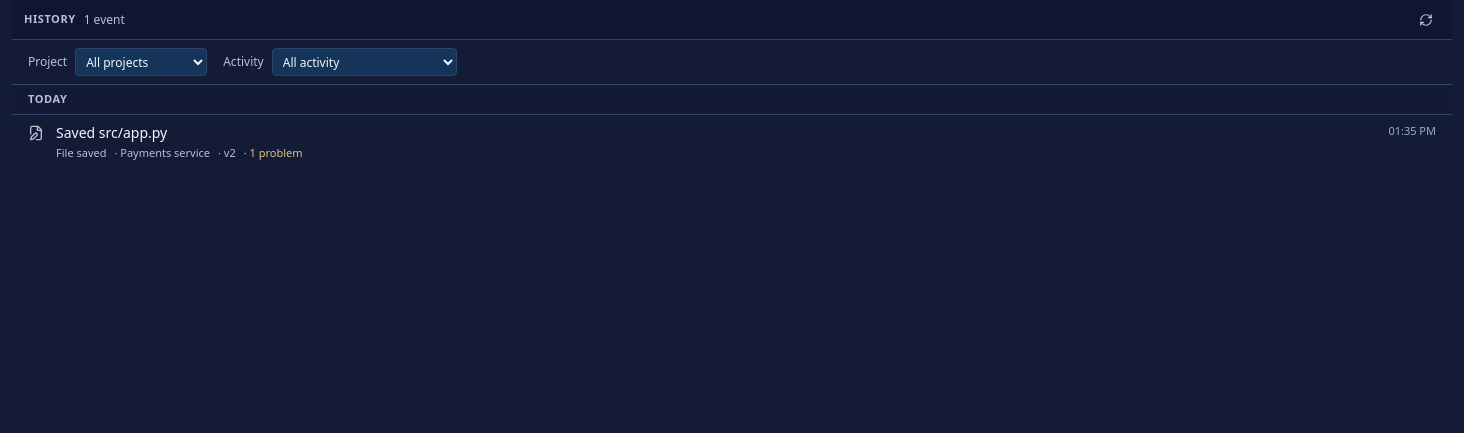
HistoryPage › opens details with links back to the project and file
The image size is (1464, 433).
Click the button "Saved src/app.py" at (112,132), box [12, 114, 1452, 169]
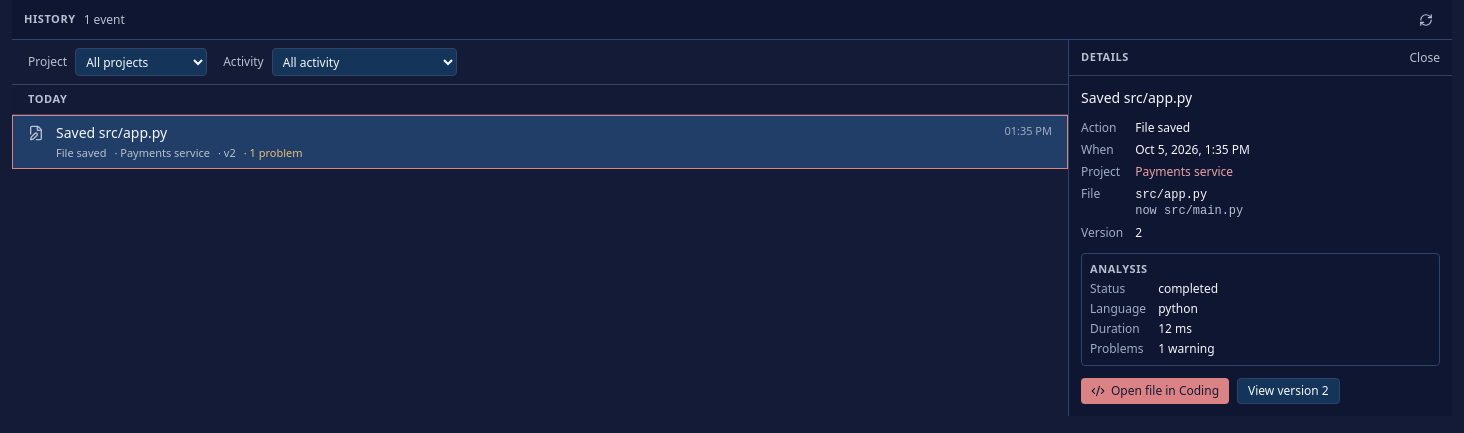
Now the text "1 warning" is shown, box [1158, 340, 1214, 357]
Now the text "now src/main.py" is shown, box [1135, 204, 1243, 218]
